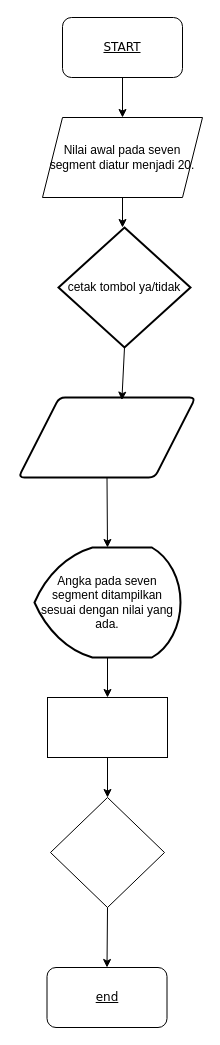
Some shapes in this 220 by 1045 pixel diagram are drawn without their labels. Here are the shapes that lost their labels. From the top down, the centre of each, then its label:
the point at 106,437: Set status menjadi sedang melakukan count down.
the point at 107,727: Nilai pada seven segment dikurangi 1
the point at 107,852: Apakah Nilai <= 0?
